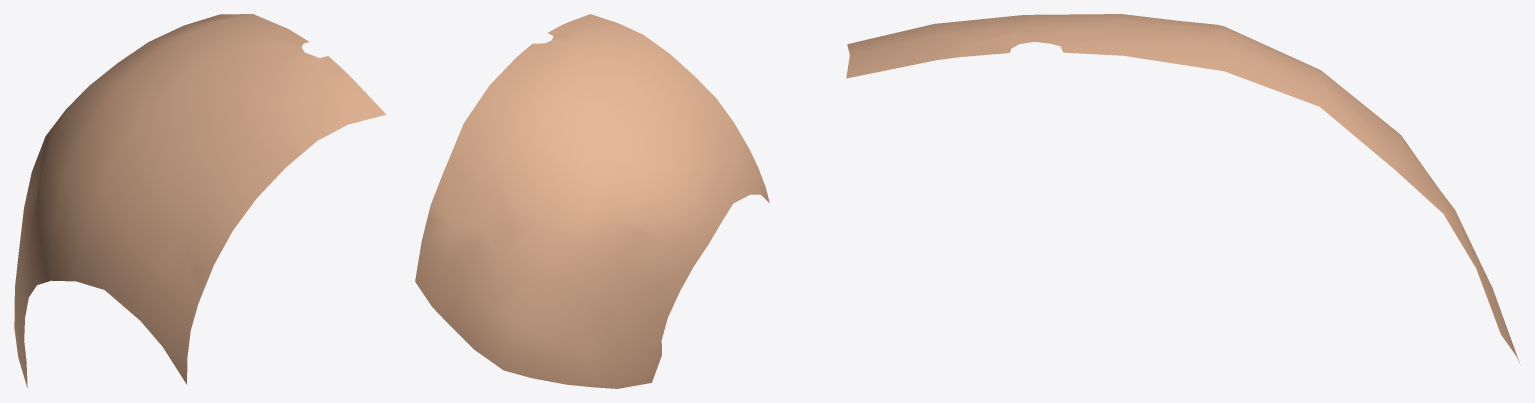
Rendered from parietal-region-r.glb.
3 renders of one model, left to right at view 1: azimuth 30°, elevation 25°; view 2: azimuth 150°, elevation 25°; view 3: azimuth 270°, elevation 25°, orthographic. The views are drawn at different scales.
Visible parts, largest first — view 1: Parietal region.r; view 2: Parietal region.r; view 3: Parietal region.r.
Boxes of the visible parts, x1=… form: Parietal region.r: x1=14, y1=14, x2=386, y2=388; Parietal region.r: x1=415, y1=14, x2=769, y2=388; Parietal region.r: x1=846, y1=14, x2=1519, y2=362.
Bounding box in the file's own units: 0.0788 × 0.1052 × 0.1411.
